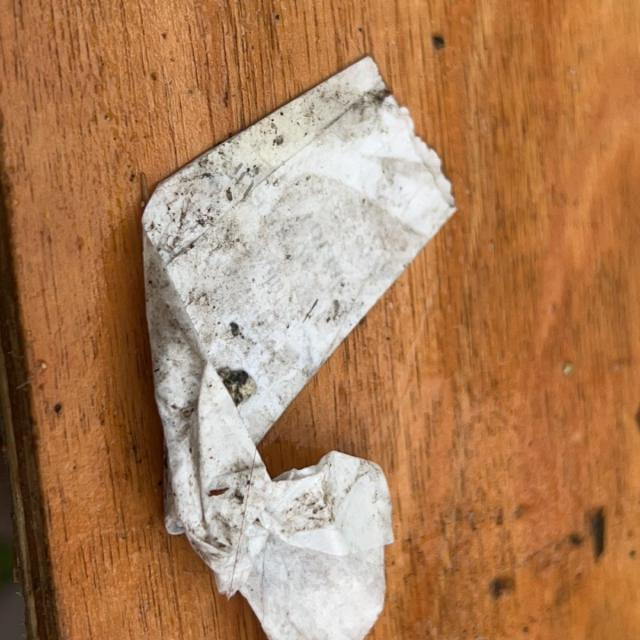Paper: (138, 51, 462, 640)
